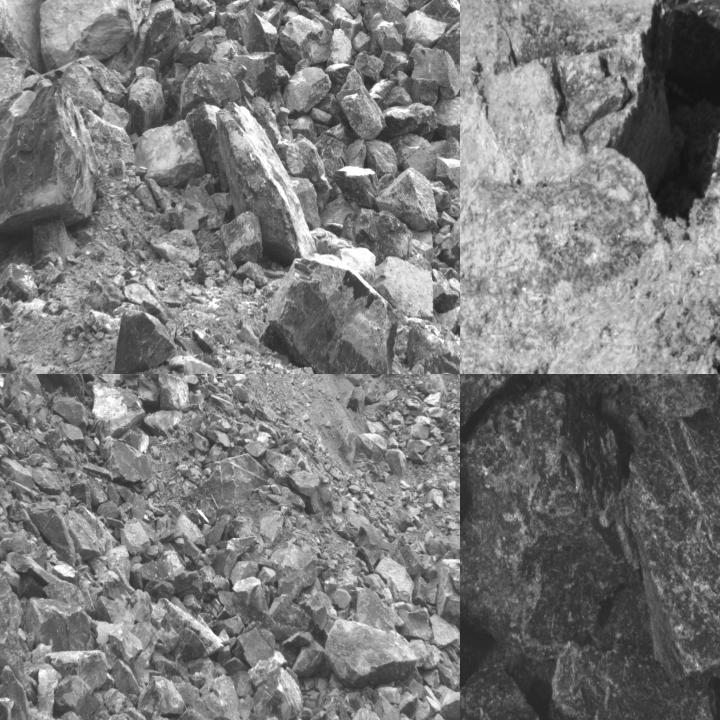stone: (460, 388, 643, 660), (460, 146, 674, 373), (623, 400, 719, 680), (550, 584, 717, 719), (259, 256, 399, 373), (217, 102, 317, 263), (0, 84, 95, 236), (534, 374, 719, 418), (34, 0, 156, 65), (324, 618, 417, 686), (0, 571, 37, 694), (137, 119, 210, 181), (109, 309, 178, 373), (158, 597, 224, 662), (195, 453, 270, 509), (94, 418, 160, 481), (341, 208, 411, 265), (373, 256, 434, 321), (377, 168, 439, 229), (219, 577, 281, 638), (0, 0, 51, 70), (27, 596, 90, 652), (179, 63, 240, 120), (24, 503, 76, 565), (90, 381, 144, 439), (175, 675, 245, 719), (336, 85, 386, 142), (410, 42, 459, 98), (270, 542, 318, 599), (0, 56, 31, 139), (254, 666, 302, 719), (279, 16, 330, 65), (406, 326, 459, 373), (282, 67, 332, 116), (44, 650, 108, 687), (393, 134, 448, 176), (128, 75, 166, 135), (220, 210, 263, 263), (137, 674, 187, 719), (364, 0, 407, 51), (356, 588, 404, 631), (54, 675, 100, 719), (238, 622, 282, 667), (427, 559, 459, 620), (383, 103, 437, 139), (404, 10, 448, 54), (336, 165, 382, 207), (374, 556, 414, 603), (65, 509, 100, 562), (154, 230, 201, 269), (389, 601, 433, 640), (270, 596, 310, 638), (0, 265, 44, 303), (31, 374, 86, 403), (106, 621, 145, 661), (243, 13, 279, 54), (150, 604, 178, 656), (419, 0, 459, 36), (93, 594, 135, 628), (294, 594, 329, 634), (0, 458, 35, 497), (52, 393, 88, 430), (431, 97, 459, 143), (356, 524, 382, 571), (366, 140, 399, 177), (186, 657, 226, 687), (159, 374, 189, 413), (120, 520, 152, 554), (141, 410, 182, 436), (411, 576, 439, 614), (429, 611, 459, 646), (106, 544, 132, 584), (292, 648, 327, 676), (112, 660, 138, 696), (32, 465, 65, 492), (0, 690, 29, 719), (288, 471, 320, 497), (0, 299, 11, 373), (206, 514, 232, 545), (399, 544, 424, 576), (137, 374, 161, 407), (229, 559, 258, 586), (120, 426, 150, 452), (58, 421, 85, 448), (404, 438, 432, 464), (142, 560, 175, 581), (5, 391, 27, 422), (214, 549, 235, 580), (2, 374, 23, 404), (373, 696, 400, 719), (386, 448, 408, 476), (440, 688, 459, 719), (399, 424, 429, 442), (344, 707, 386, 719), (244, 440, 270, 458), (90, 374, 126, 386), (257, 566, 276, 586), (188, 391, 204, 413), (166, 503, 181, 524), (272, 465, 289, 483), (0, 375, 7, 409)
